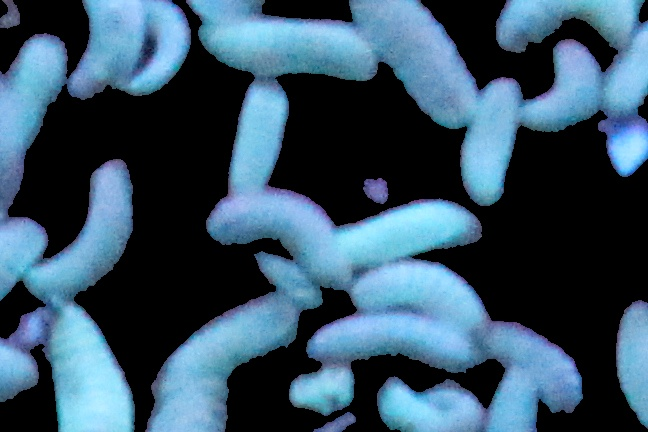larvae: (348, 1, 478, 126), (30, 160, 136, 301), (208, 188, 354, 290), (153, 294, 296, 388), (198, 17, 386, 82), (1, 38, 71, 204), (46, 307, 136, 432), (303, 317, 482, 374), (483, 314, 583, 414), (339, 200, 481, 270), (515, 40, 603, 141), (354, 258, 486, 321), (227, 78, 288, 214), (494, 1, 645, 52), (462, 75, 519, 204), (73, 1, 148, 99), (376, 378, 482, 432), (130, 3, 190, 97), (614, 297, 648, 432), (255, 251, 324, 306), (489, 369, 541, 432)
